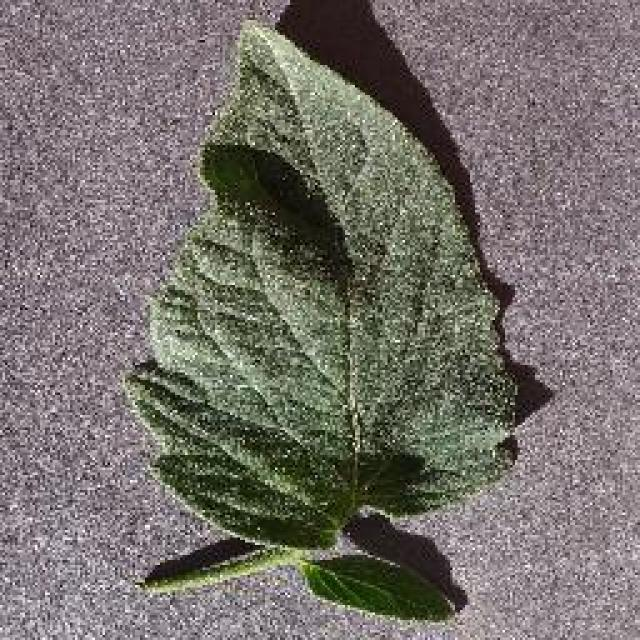Healthy: (103, 2, 545, 630)
